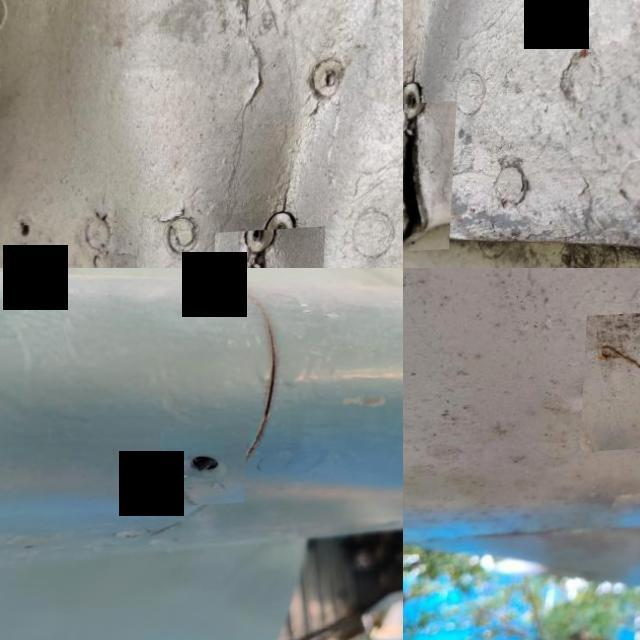Crack: (403, 104, 459, 256), (584, 305, 640, 454), (211, 231, 328, 268)
Missing_Fastener: (161, 428, 251, 512)
